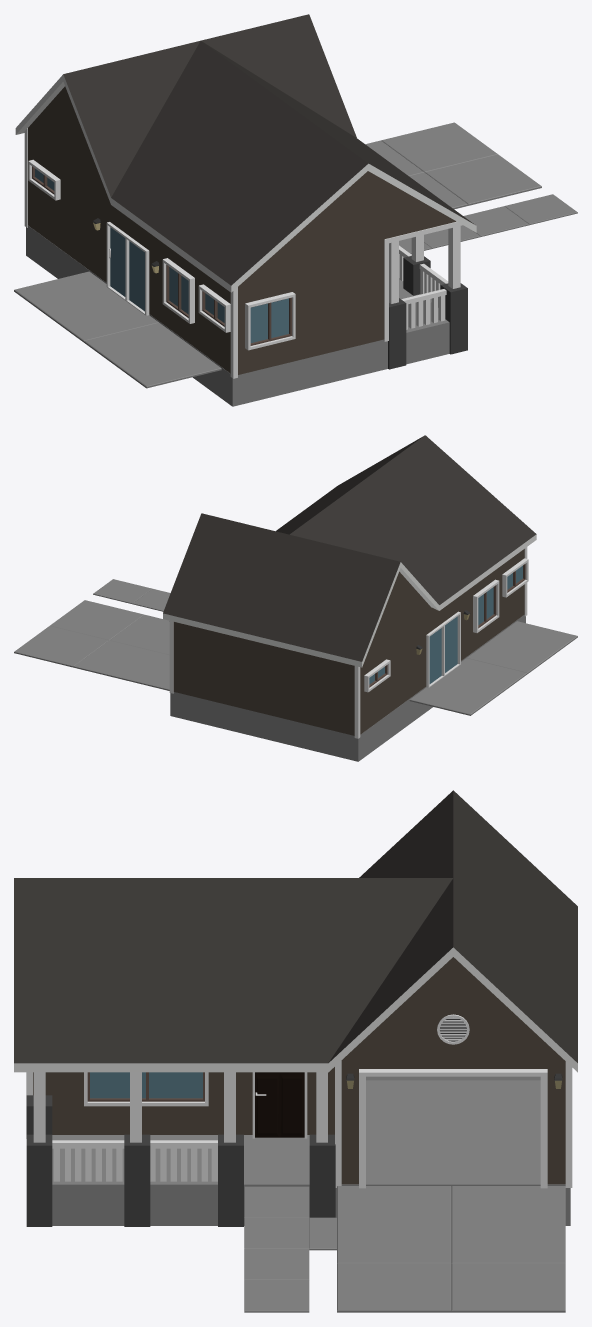
Rendered from Proto_HouseSmall_DarkTan.fbx.
3 views of the same model, one above another, from view 1: azimuth 30°, elevation 25°; view 2: azimuth 150°, elevation 25°; view 3: azimuth 270°, elevation 25° (orthographic). The views are drawn at different scales.
Visible parts, largest first — view 1: HouseSmall_DarkTan; view 2: HouseSmall_DarkTan; view 3: HouseSmall_DarkTan.
Part boxes in pixels (x1,y1,x2,y2): HouseSmall_DarkTan: (14,14,577,406); HouseSmall_DarkTan: (14,435,577,761); HouseSmall_DarkTan: (14,790,577,1312).
Bounding box in the file's own units: 32.35 × 13.28 × 24.02.
